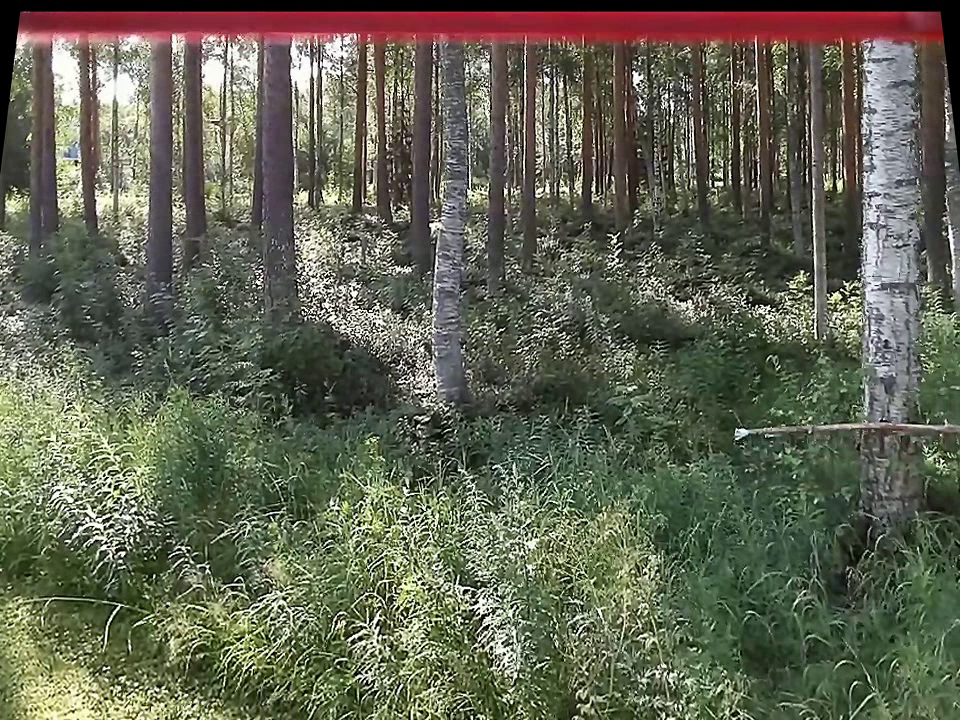branch: (753, 409, 956, 454)
